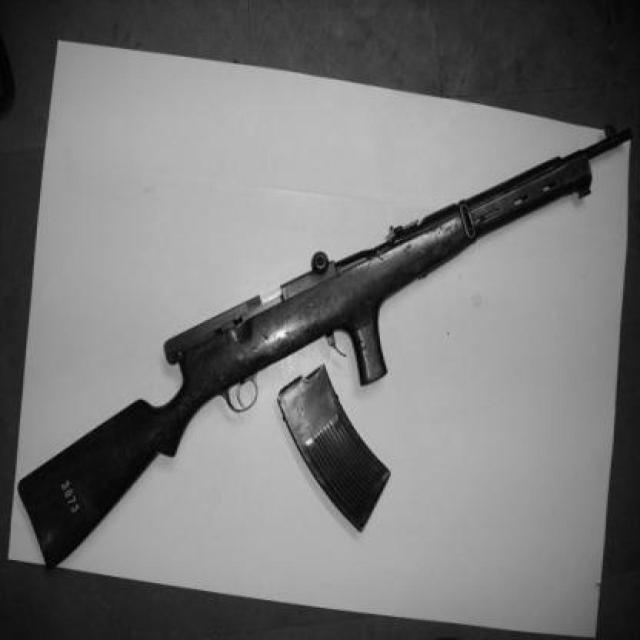weapon: (15, 124, 633, 572)
